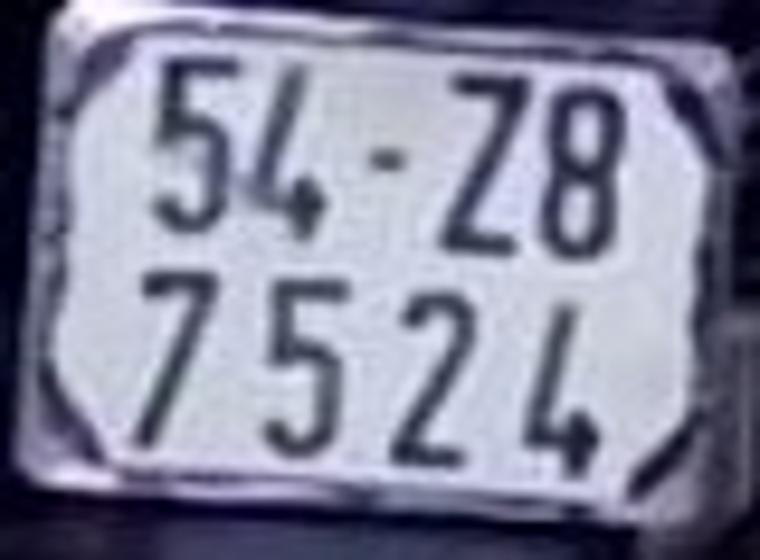-: (369, 147, 403, 170)
2: (399, 292, 475, 471)
4: (250, 64, 324, 243), (521, 307, 598, 477)
5: (267, 276, 346, 456), (156, 57, 231, 234)
7: (133, 269, 219, 447)
8: (543, 81, 618, 257)
Z: (440, 71, 517, 259)
